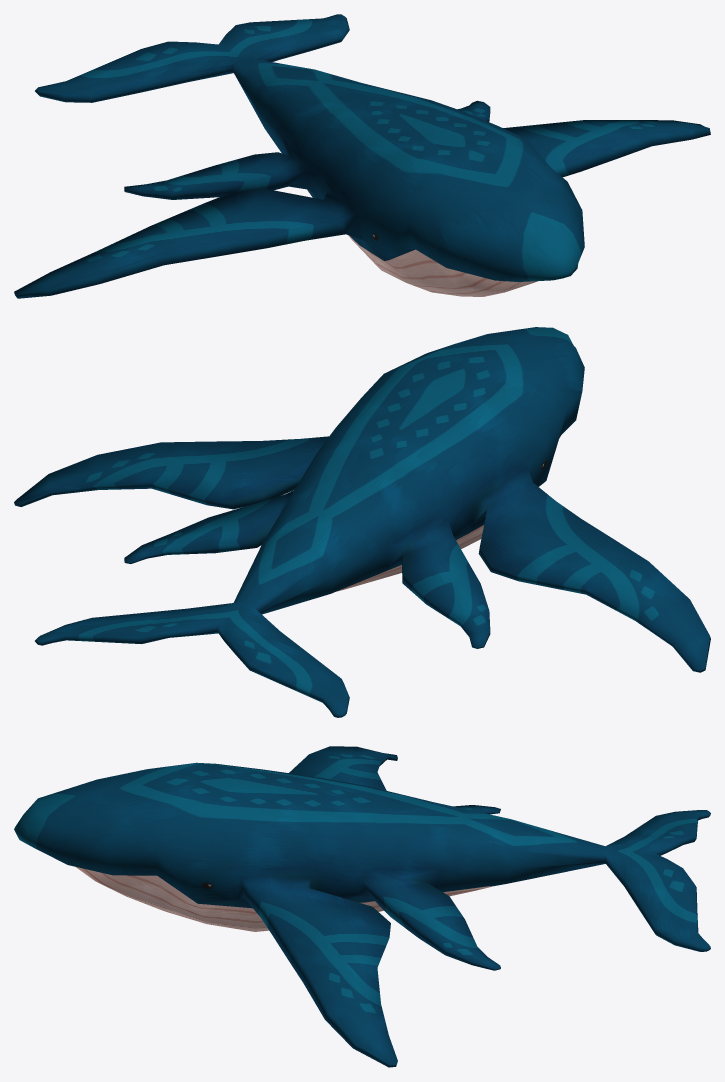
The model's file is whale.fbx.
3 renders of one model, top to bottom at view 1: azimuth 30°, elevation 25°; view 2: azimuth 150°, elevation 25°; view 3: azimuth 270°, elevation 25°, orthographic. The views are drawn at different scales.
Parts seen in each view (by area): view 1: Cube; view 2: Cube; view 3: Cube.
Boxes of the visible parts, bbox=[...] form: Cube: bbox=[14, 14, 710, 298]; Cube: bbox=[14, 327, 710, 717]; Cube: bbox=[14, 746, 710, 1067].
Bounding box in the file's own units: 895 × 202 × 851.
